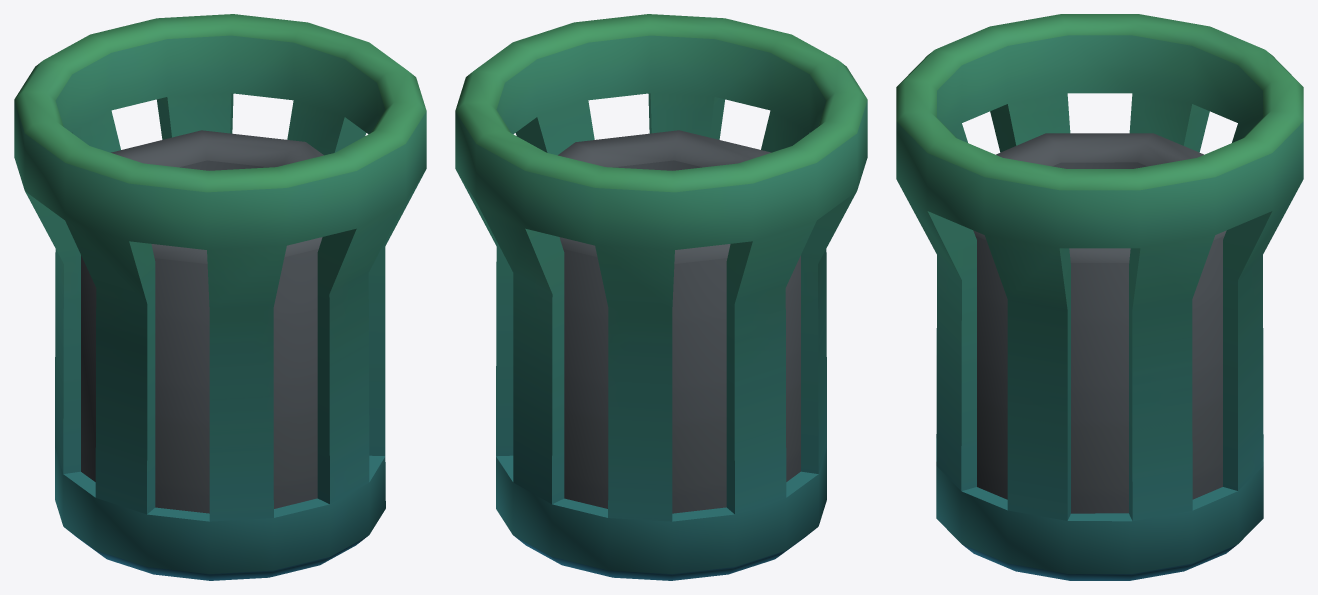
The model's file is prop_park_trashcan.glb.
3 renders of one model, left to right at view 1: azimuth 30°, elevation 25°; view 2: azimuth 150°, elevation 25°; view 3: azimuth 270°, elevation 25°, orthographic.
Parts seen in each view (by area): view 1: trashcan; view 2: trashcan; view 3: trashcan.
Boxes of the visible parts, x1,y1,x2,y2 form: trashcan: [14, 14, 426, 580]; trashcan: [455, 14, 867, 580]; trashcan: [896, 14, 1303, 580].
Bounding box in the file's own units: 1 × 1.14 × 1.
1 material, 1 textured.
